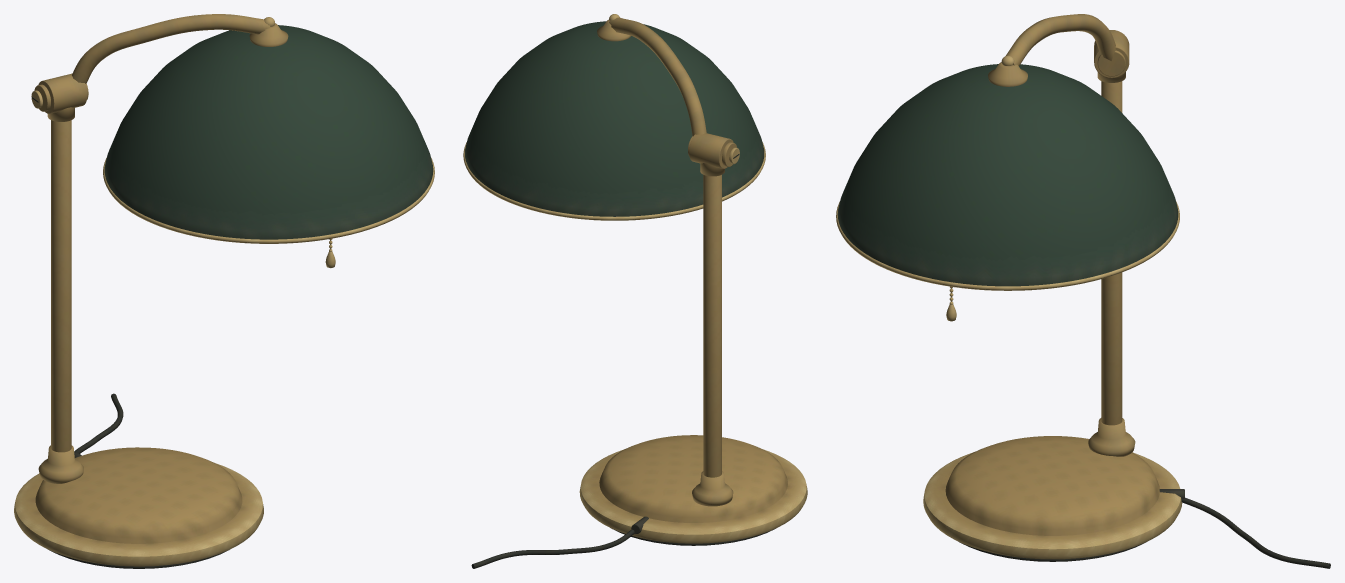
The model's file is lamp.glb.
The picture shows the model from 3 angles, left to right: view 1: azimuth 30°, elevation 25°; view 2: azimuth 150°, elevation 25°; view 3: azimuth 270°, elevation 25°; orthographic projection. The views are drawn at different scales.
Visible parts, largest first — view 1: GEO-shade-Lamp_Enamel, GEO-fixed-Lamp_Brass, GEO-shade-Lamp_Brass, GEO-fixed-Lamp_Rubber; view 2: GEO-shade-Lamp_Enamel, GEO-fixed-Lamp_Brass, GEO-shade-Lamp_Brass, GEO-fixed-Lamp_Rubber; view 3: GEO-shade-Lamp_Enamel, GEO-fixed-Lamp_Brass, GEO-shade-Lamp_Brass, GEO-fixed-Lamp_Rubber.
Boxes of the visible parts, x1,y1,x2,y2 form: GEO-shade-Lamp_Enamel: [104, 25, 433, 239]; GEO-fixed-Lamp_Brass: [14, 73, 263, 566]; GEO-shade-Lamp_Brass: [72, 14, 434, 243]; GEO-fixed-Lamp_Rubber: [32, 97, 228, 568]; GEO-shade-Lamp_Enamel: [465, 21, 764, 216]; GEO-fixed-Lamp_Brass: [579, 133, 807, 543]; GEO-shade-Lamp_Brass: [463, 14, 765, 220]; GEO-fixed-Lamp_Rubber: [471, 154, 775, 568]; GEO-shade-Lamp_Enamel: [837, 64, 1178, 286]; GEO-fixed-Lamp_Brass: [923, 30, 1182, 559]; GEO-shade-Lamp_Brass: [836, 14, 1179, 290]; GEO-fixed-Lamp_Rubber: [958, 489, 1330, 568].
Size of the model in its own units: 0.366 by 0.4855 by 0.42.
5 materials, 5 textured.
